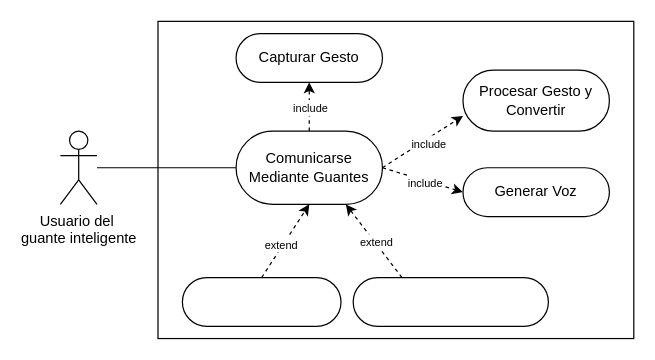
Some shapes in this 655 by 360 pixel diagram are drawn without their labels. Here are the shapes that lost their labels. From the top down, the centre of each, then its label:
At pixel 261 301: "Activar Modo Offline".
At pixel 450 301: "Mostrar Error de Gesto".
